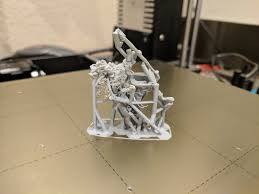fail: (90, 59, 146, 108)
